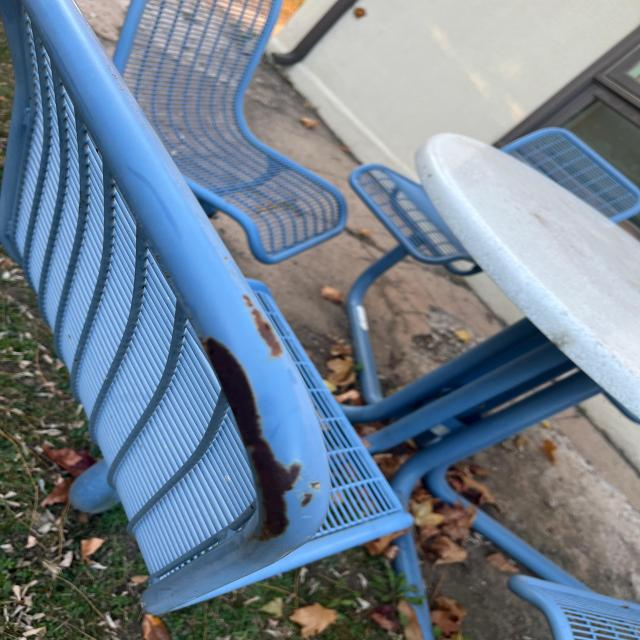Filiform Corrosion: (202, 339, 302, 541), (244, 297, 284, 359)
